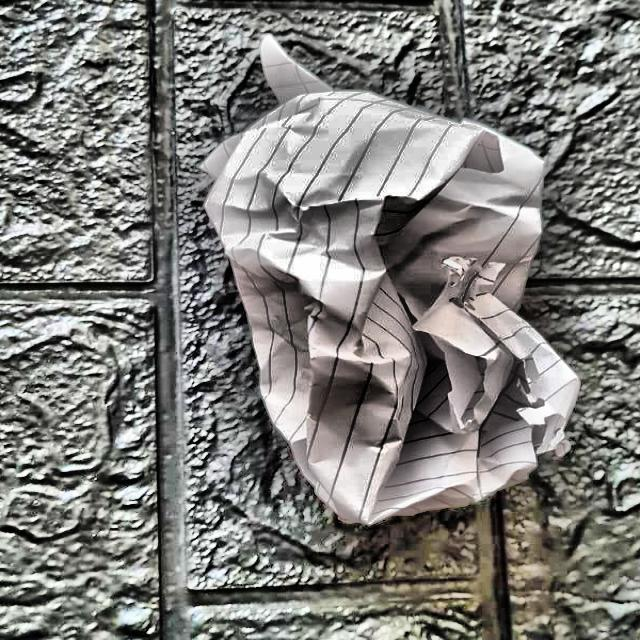paper: (193, 54, 593, 518)
